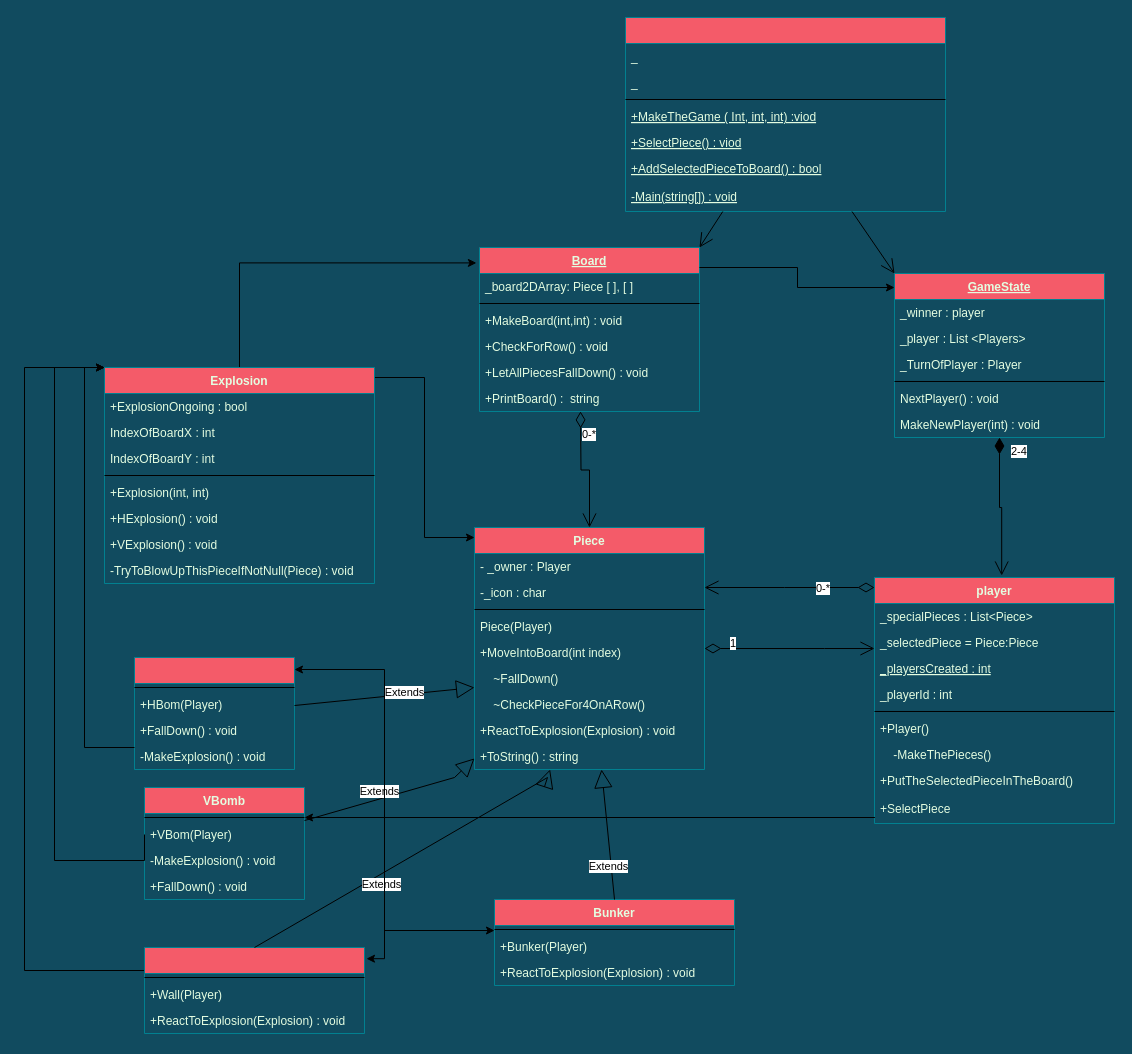
This 1132x1054 diagram has some shape labels left out. The shapes that lost their labels are listed below. From the top down, each one's box as (x1, y1, x2, y2) in pixels, then its label:
(624, 16, 946, 212): Controller
(134, 656, 294, 770): HBomb
(144, 946, 364, 1034): Barrier
